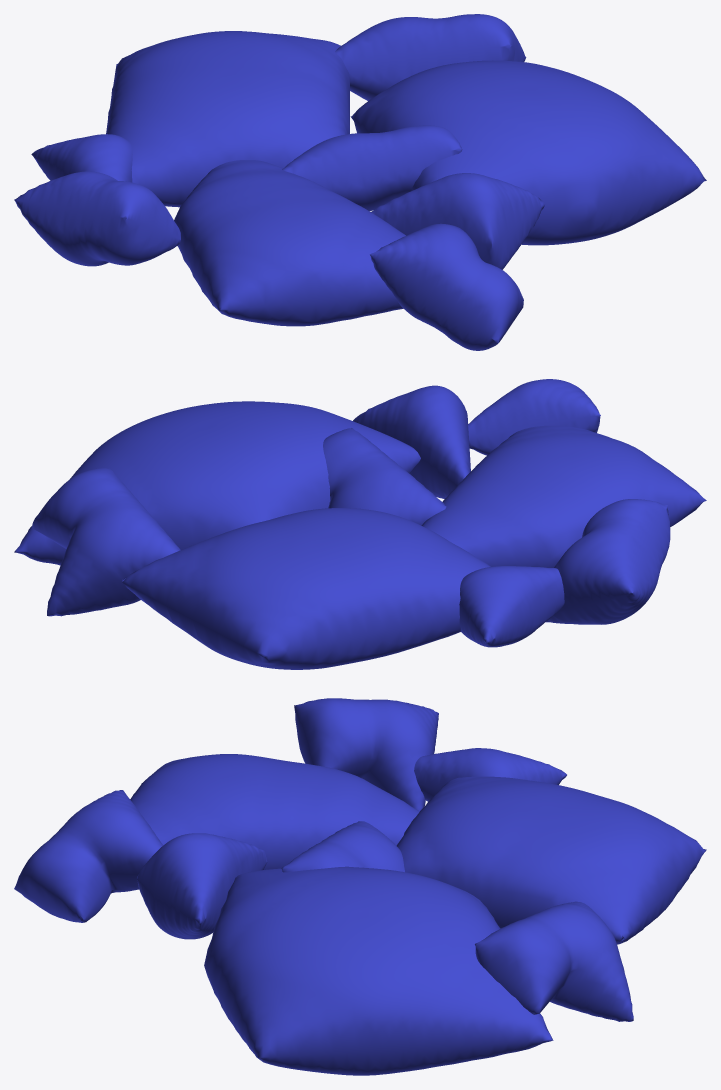
File: Seed Dirt.fbx
The picture shows the model from 3 angles, top to bottom: view 1: azimuth 30°, elevation 25°; view 2: azimuth 150°, elevation 25°; view 3: azimuth 270°, elevation 25°; orthographic projection. The views are drawn at different scales.
Parts seen in each view (by area): view 1: node_id90 (×9); view 2: node_id90 (×9); view 3: node_id90 (×9).
Boxes of the visible parts, box(x1,y1,x2,y2) form: node_id90 (×9): box(14, 14, 706, 350); node_id90 (×9): box(14, 379, 706, 669); node_id90 (×9): box(14, 698, 706, 1075).
Size of the model in its own units: 0.0713 by 0.0165 by 0.0728.
